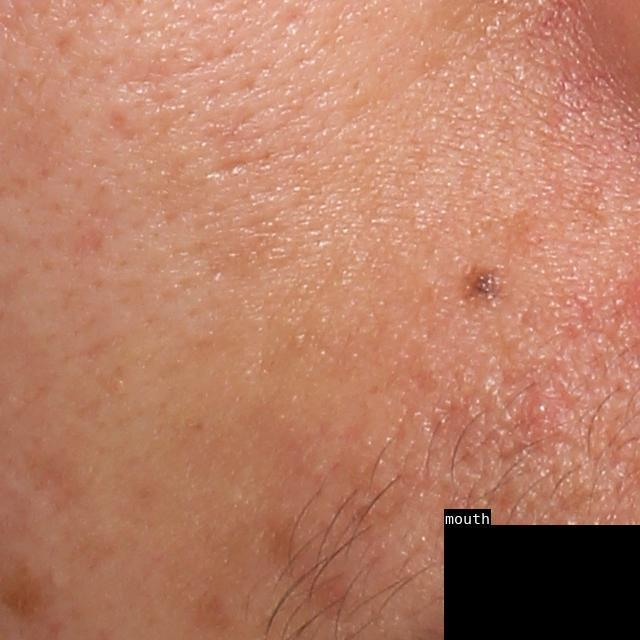atrophic_scar: (206, 158, 256, 182)
nevus: (461, 263, 506, 300)
